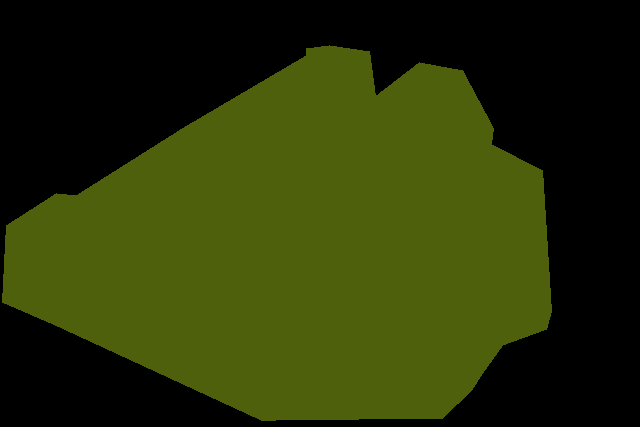Train: (2, 45, 551, 421)
